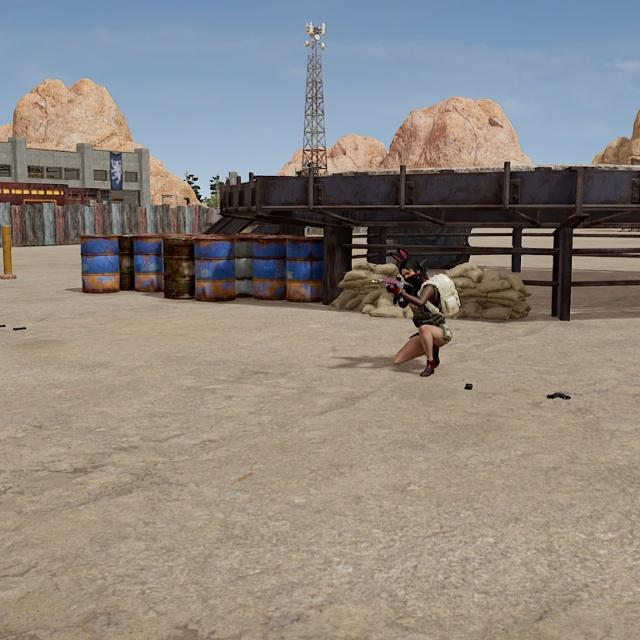head: (399, 256, 424, 288)
people: (391, 254, 457, 380)
